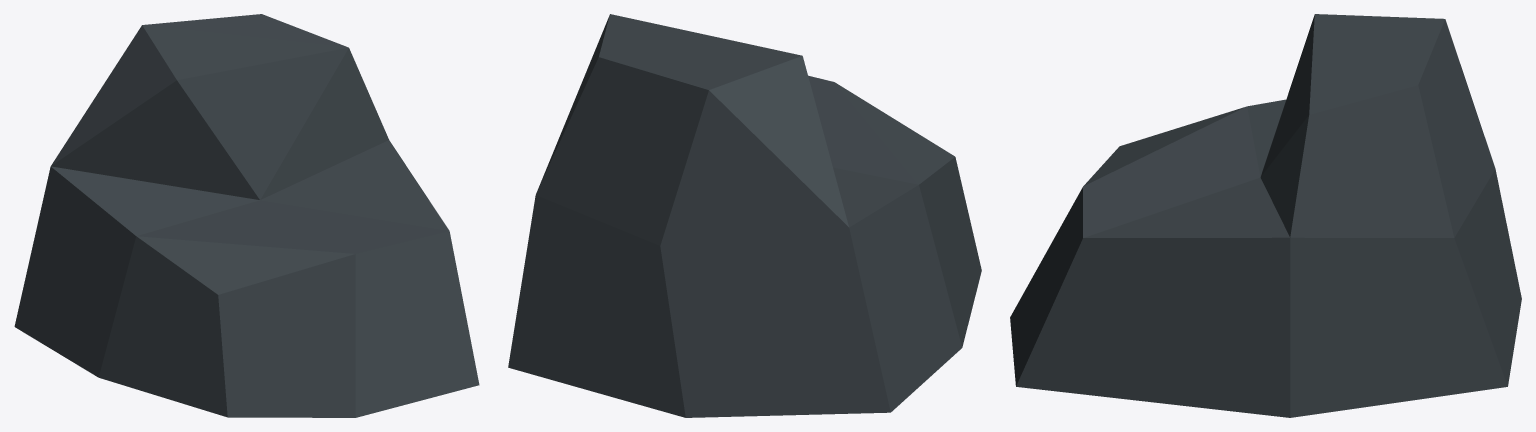
Rendered from FlatRock-B15.fbx.
3 views of the same model, side by side, from view 1: azimuth 30°, elevation 25°; view 2: azimuth 150°, elevation 25°; view 3: azimuth 270°, elevation 25° (orthographic). The views are drawn at different scales.
Parts seen in each view (by area): view 1: FlatRock-B15; view 2: FlatRock-B15; view 3: FlatRock-B15.
Part boxes in pixels (x1=…): FlatRock-B15: x1=14, y1=14, x2=479, y2=417; FlatRock-B15: x1=508, y1=14, x2=981, y2=417; FlatRock-B15: x1=1010, y1=14, x2=1521, y2=417.
Bounding box in the file's own units: 146 × 104 × 167.
